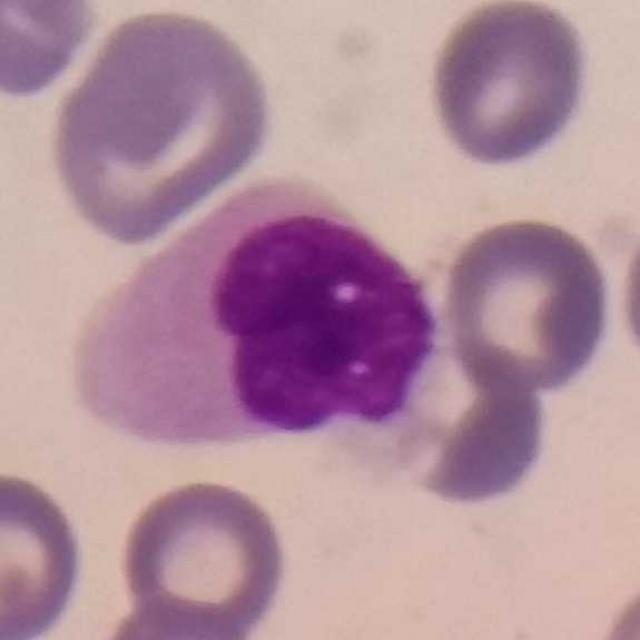mono: (72, 164, 455, 466)
